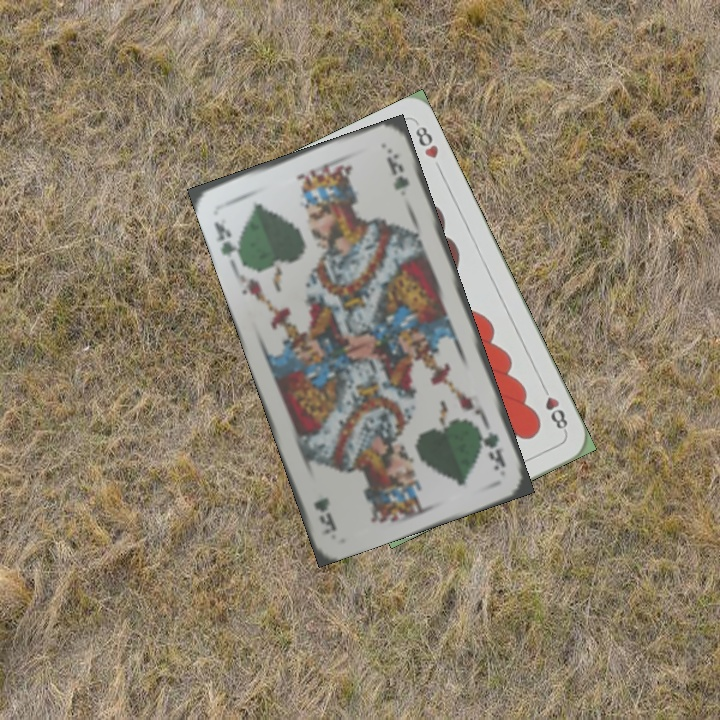GK: (474, 421, 508, 473), (210, 217, 243, 260)
H8: (537, 380, 571, 436)
